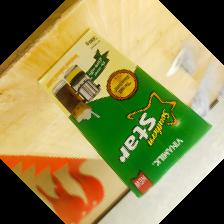NSPN_Hop: (38, 28, 212, 199)
